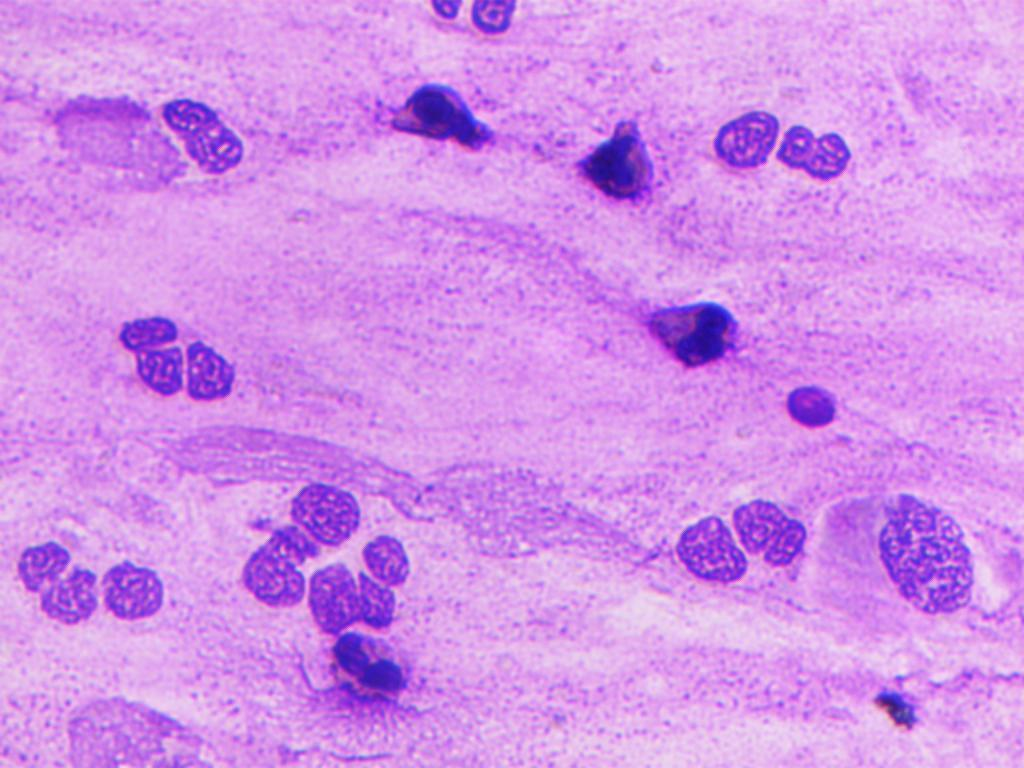artifact: (781, 382, 849, 433), (874, 686, 920, 736)
epithelial: (231, 470, 428, 637), (867, 481, 999, 621), (155, 92, 264, 186)
neutrophil: (648, 479, 805, 609), (95, 312, 268, 414), (14, 519, 170, 630), (708, 103, 863, 204), (381, 64, 504, 172), (565, 110, 670, 214), (637, 284, 746, 384), (390, 0, 542, 40), (328, 636, 422, 692)
